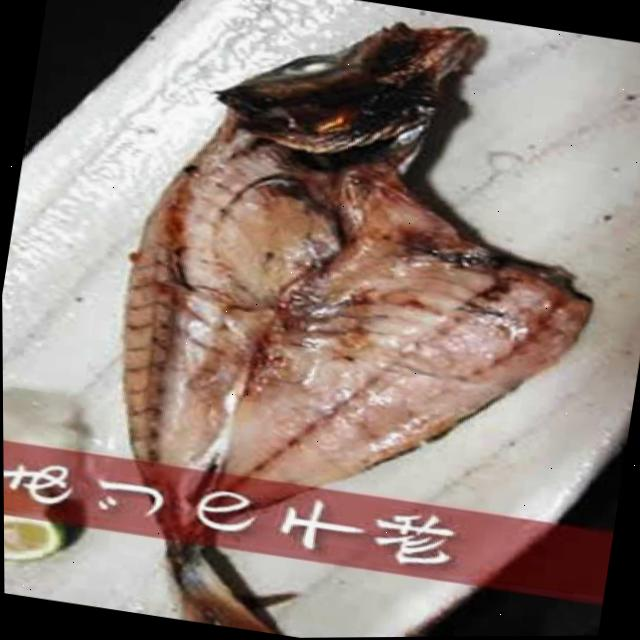熟制海鲜: (130, 0, 640, 639)
